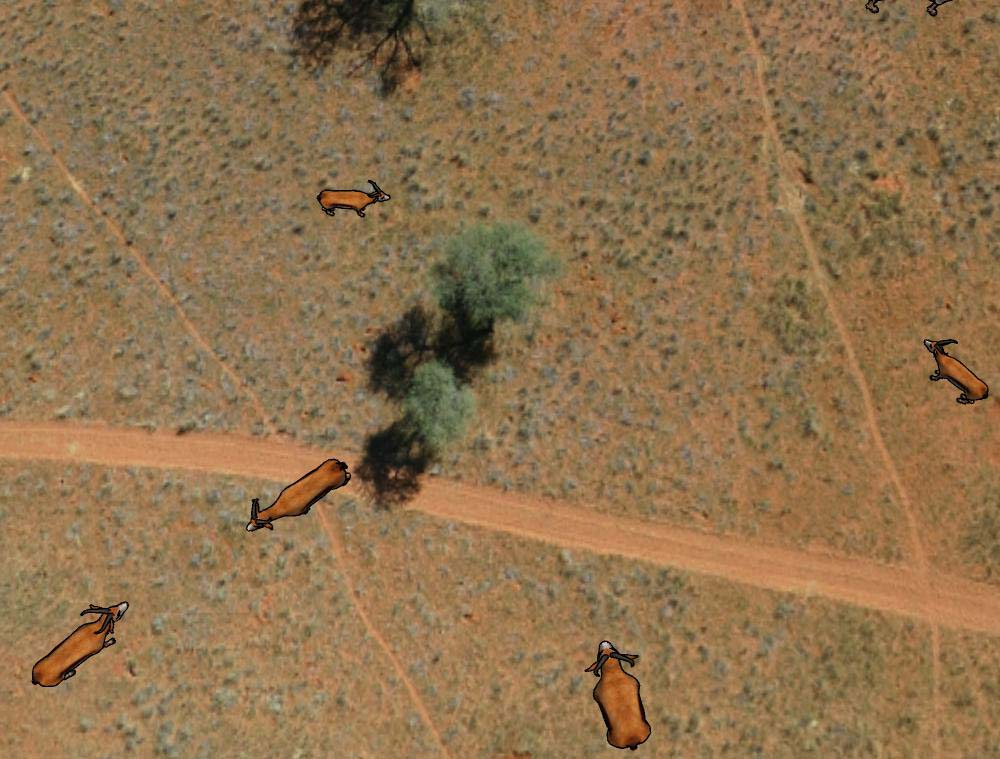springbok: (30, 599, 134, 692), (582, 634, 657, 759), (248, 458, 352, 536), (914, 335, 1000, 407), (312, 178, 391, 223)
